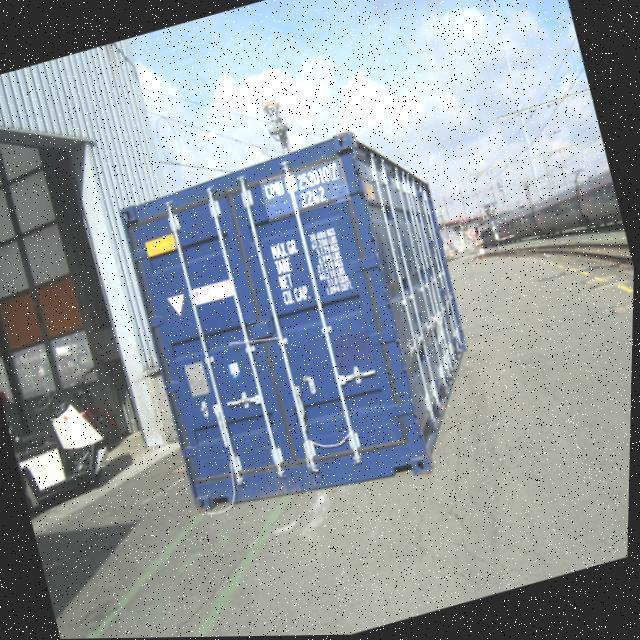container_number_h: (259, 158, 352, 222)
